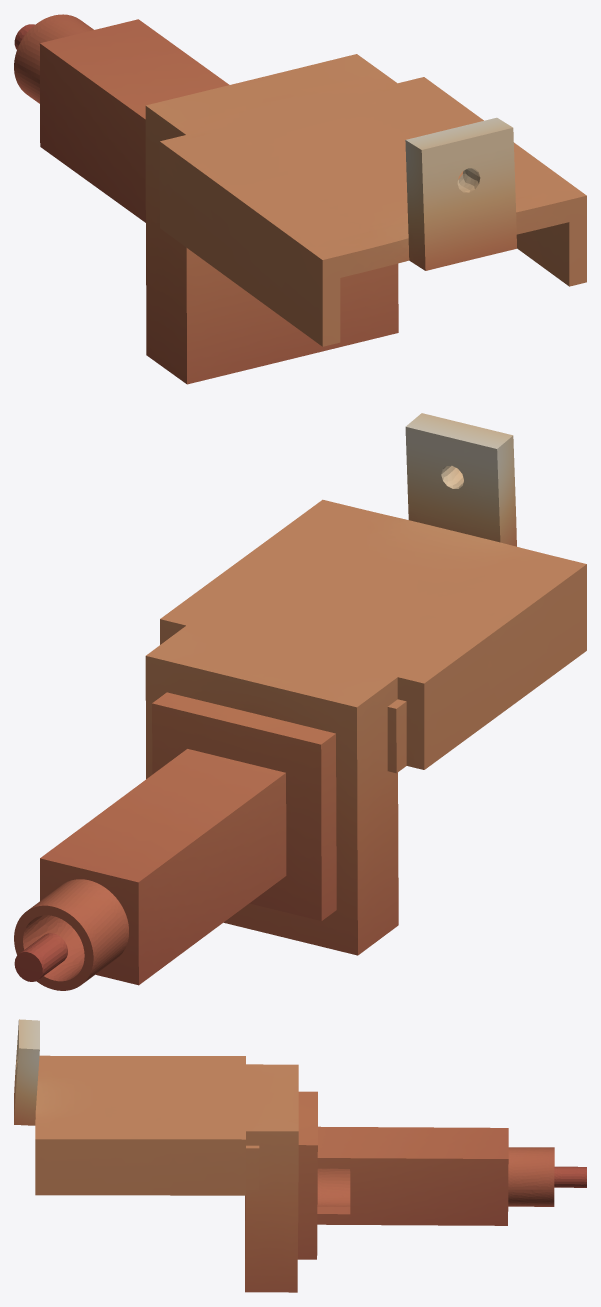
The model's file is z_saddle_tab16_Fz_u.glb.
3 renders of one model, top to bottom at view 1: azimuth 30°, elevation 25°; view 2: azimuth 150°, elevation 25°; view 3: azimuth 270°, elevation 25°, orthographic. The views are drawn at different scales.
Visible parts, largest first — view 1: geometry_0; view 2: geometry_0; view 3: geometry_0.
Part boxes in pixels (x1,y1,x2,y2): geometry_0: (14,14,586,384); geometry_0: (14,413,586,990); geometry_0: (14,1019,586,1292).
Bounding box in the file's own units: 150 × 189 × 435.
